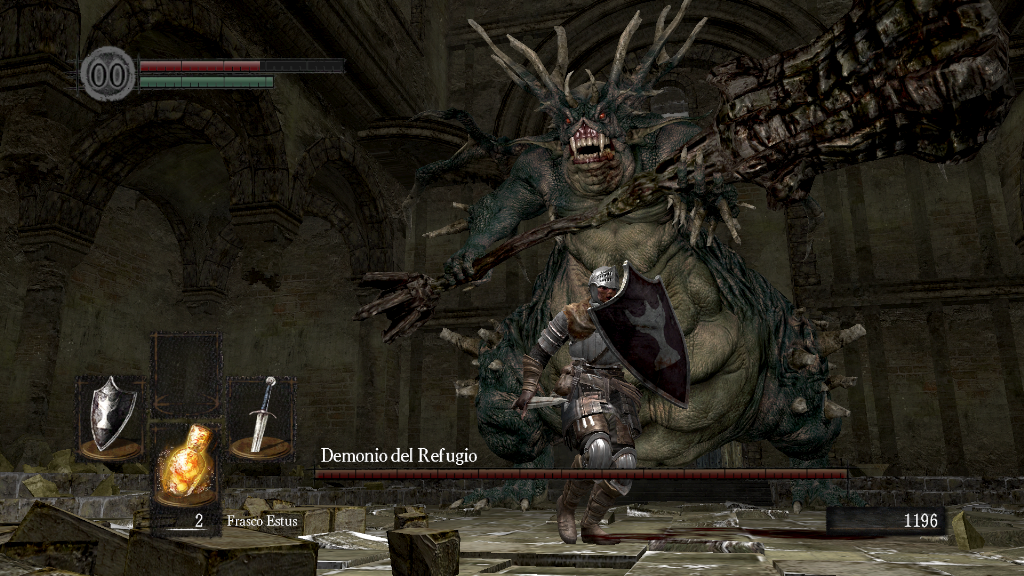asylumDemon: (358, 1, 868, 502)
bossHP: (314, 469, 847, 479)
health: (138, 58, 343, 71)
humanity: (80, 45, 136, 102)
player: (512, 259, 693, 547)
souls: (825, 506, 945, 536)
stamina: (138, 74, 274, 88)
